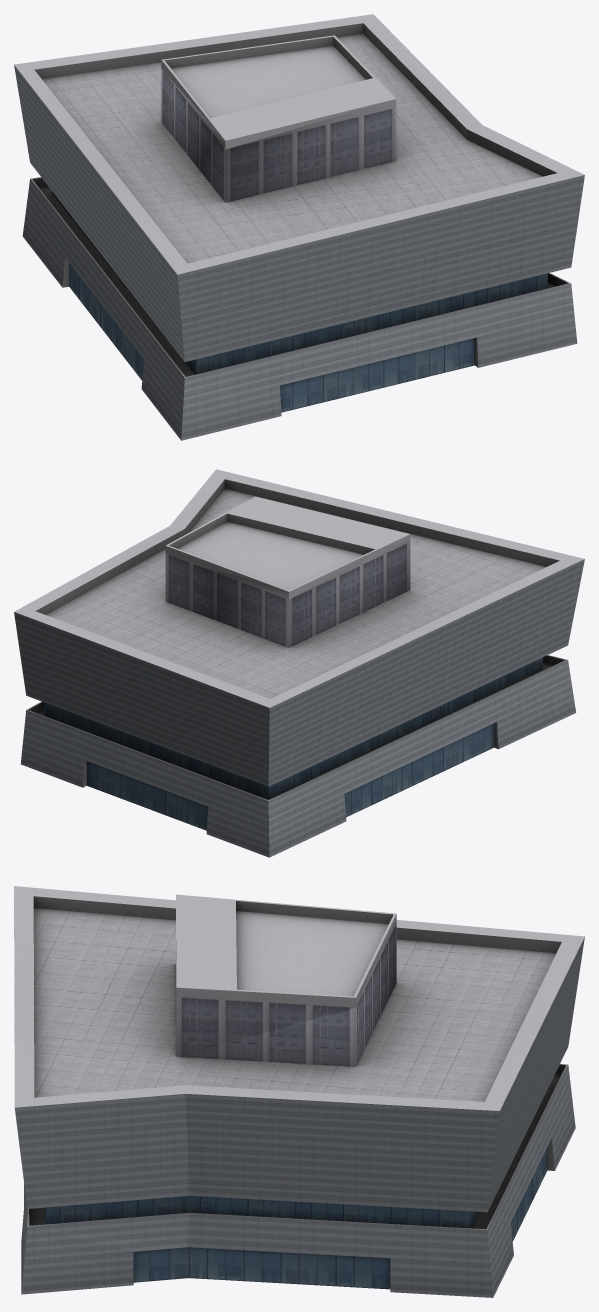
The picture shows the model from 3 angles, top to bottom: view 1: azimuth 30°, elevation 25°; view 2: azimuth 150°, elevation 25°; view 3: azimuth 270°, elevation 25°; orthographic projection. The views are drawn at different scales.
Parts seen in each view (by area): view 1: MainBuilding; view 2: MainBuilding; view 3: MainBuilding.
Boxes of the visible parts, x1,y1,x2,y2 form: MainBuilding: [14, 14, 584, 440]; MainBuilding: [14, 469, 584, 857]; MainBuilding: [14, 886, 584, 1297].
Size of the model in its own units: 4.28 by 2.19 by 4.59.
Materials: 1 (1 with a texture image).
